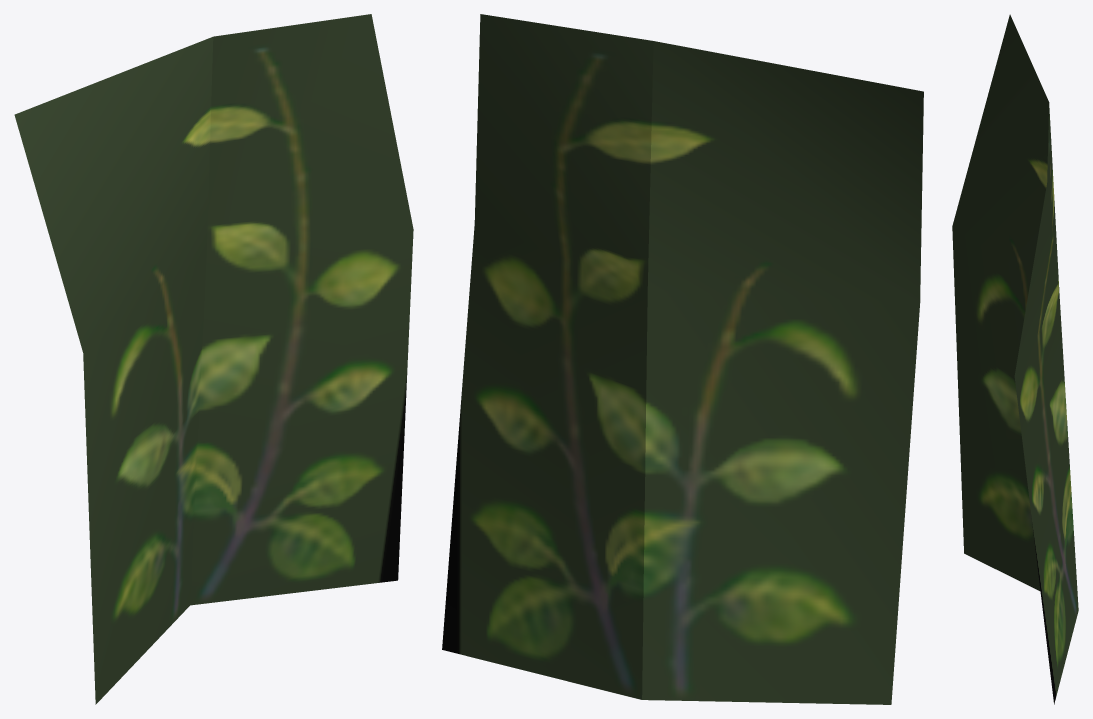
File: sucai_03_03.FBX
3 renders of one model, left to right at view 1: azimuth 30°, elevation 25°; view 2: azimuth 150°, elevation 25°; view 3: azimuth 270°, elevation 25°, orthographic. The views are drawn at different scales.
Parts seen in each view (by area): view 1: sucai_03; view 2: sucai_03; view 3: sucai_03.
Boxes of the visible parts, left/top/right/bottom form: sucai_03: left=14, top=14, right=413, bottom=704; sucai_03: left=442, top=14, right=923, bottom=704; sucai_03: left=952, top=14, right=1078, bottom=704.
Size of the model in its own units: 81.6 by 113 by 24.77.
